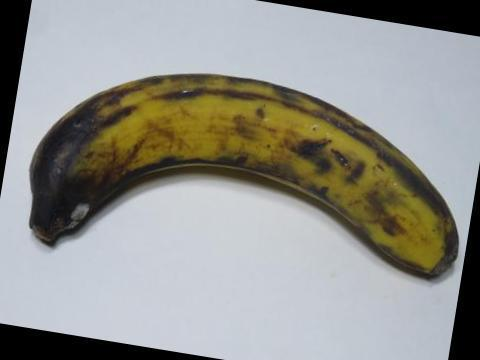overripe: (12, 54, 479, 323)
rotten: (18, 94, 143, 249)
